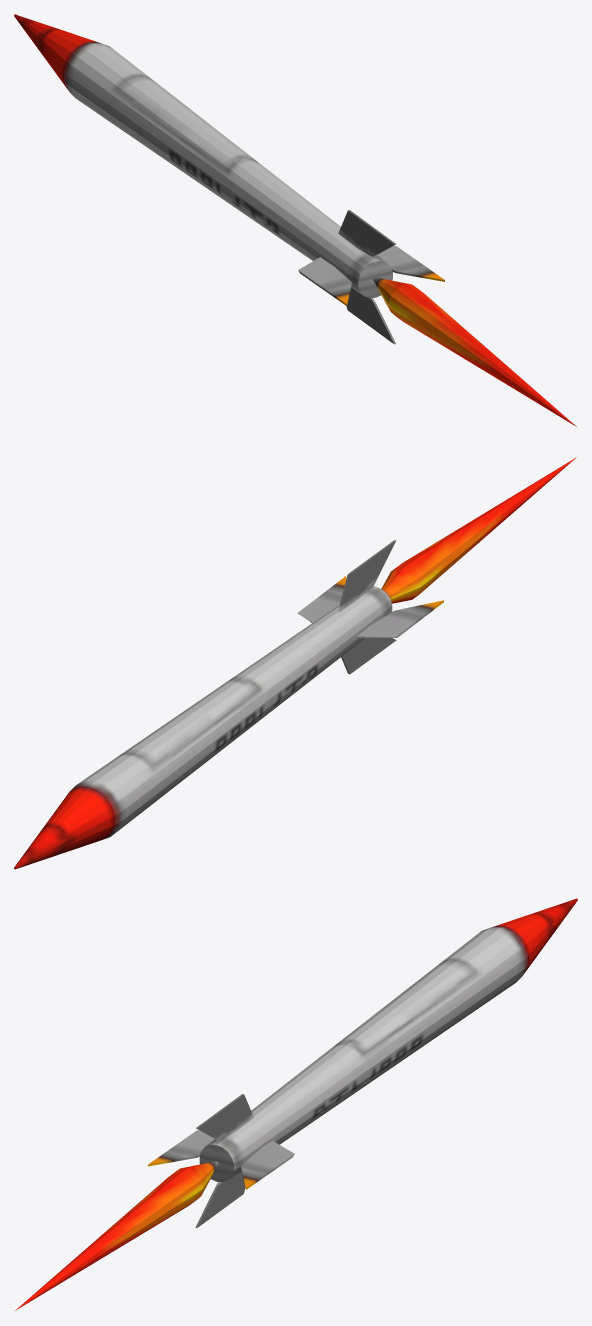
The model's file is Missile.glb.
3 views of the same model, one above another, from view 1: azimuth 30°, elevation 25°; view 2: azimuth 150°, elevation 25°; view 3: azimuth 330°, elevation 25° (orthographic).
Visible parts, largest first — view 1: Missile; view 2: Missile; view 3: Missile.
Part boxes in pixels (bbox=[...]): Missile: bbox=[14, 14, 576, 426]; Missile: bbox=[14, 457, 576, 869]; Missile: bbox=[15, 898, 577, 1310].
Bounding box in the file's own units: 8.57 × 8.32 × 85.18.
1 material, 1 textured.
